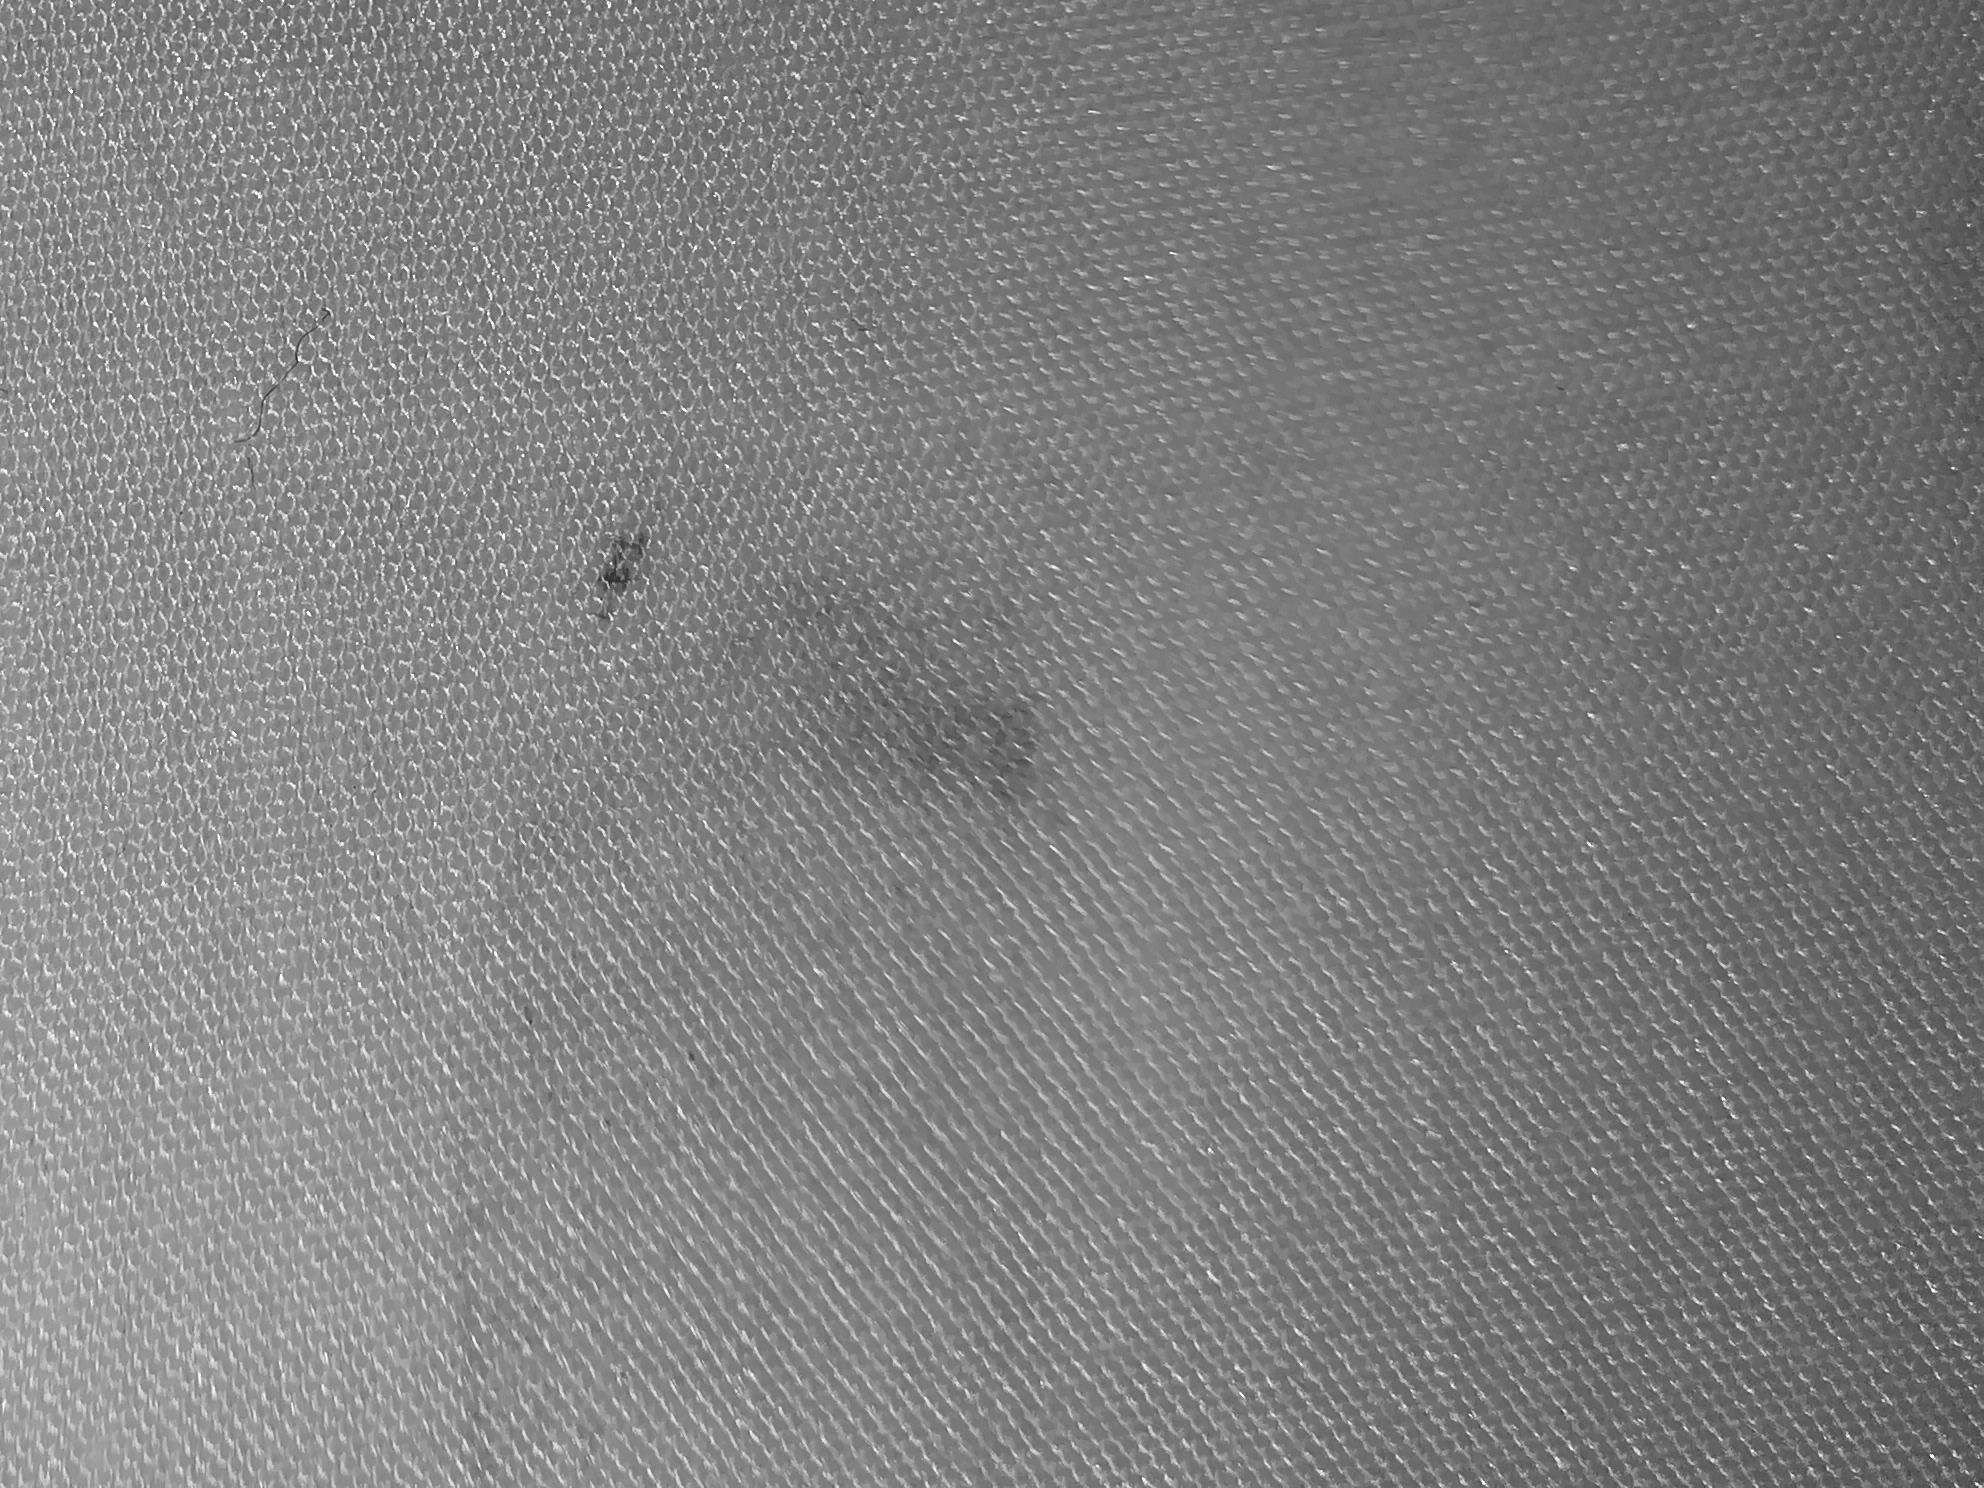Stain: (566, 416, 1308, 916)
